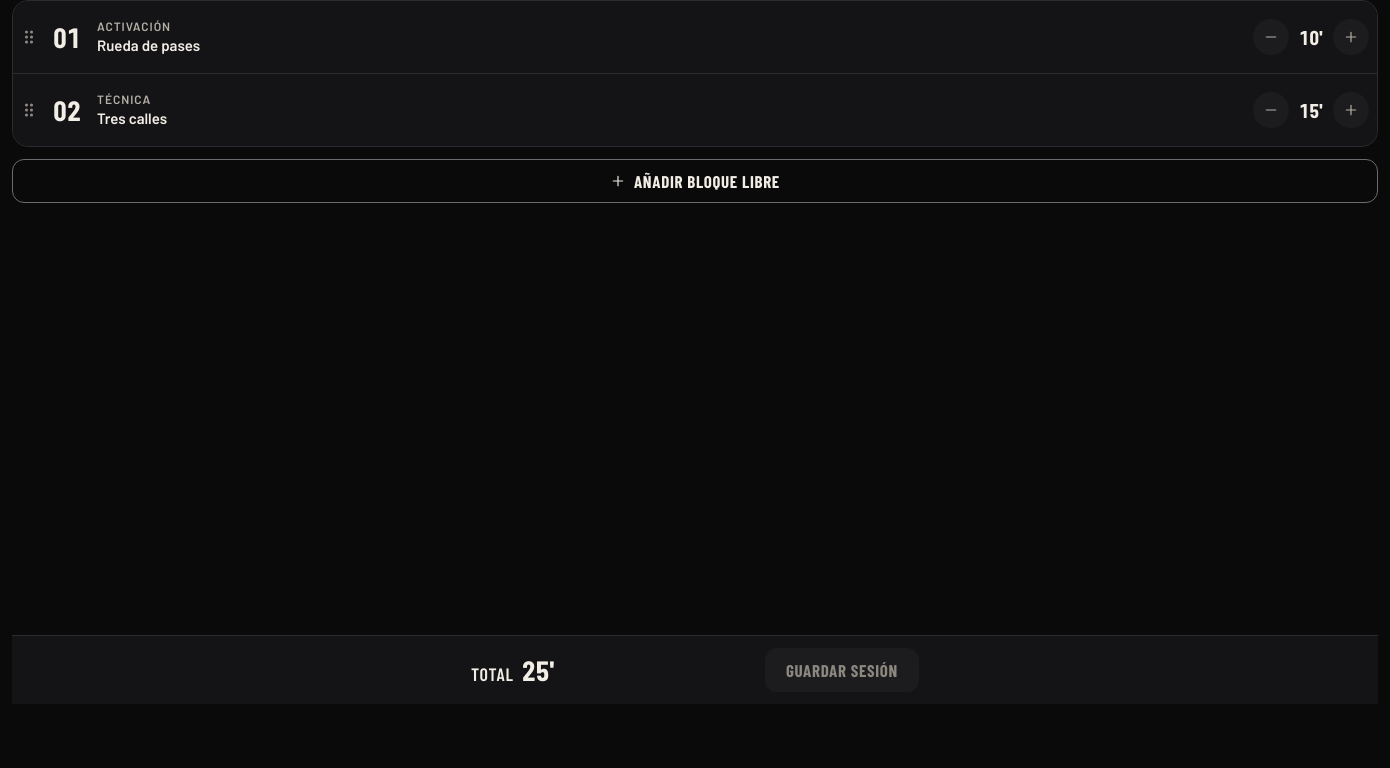
Test case: PracticeBuilder · añadir y quitar › al quitar la última fila, el foco va a la anterior; y sin filas, a «Añadir bloque libre»
Click the button "Técnica Tres calles" at (124, 99), box [97, 88, 1245, 132]
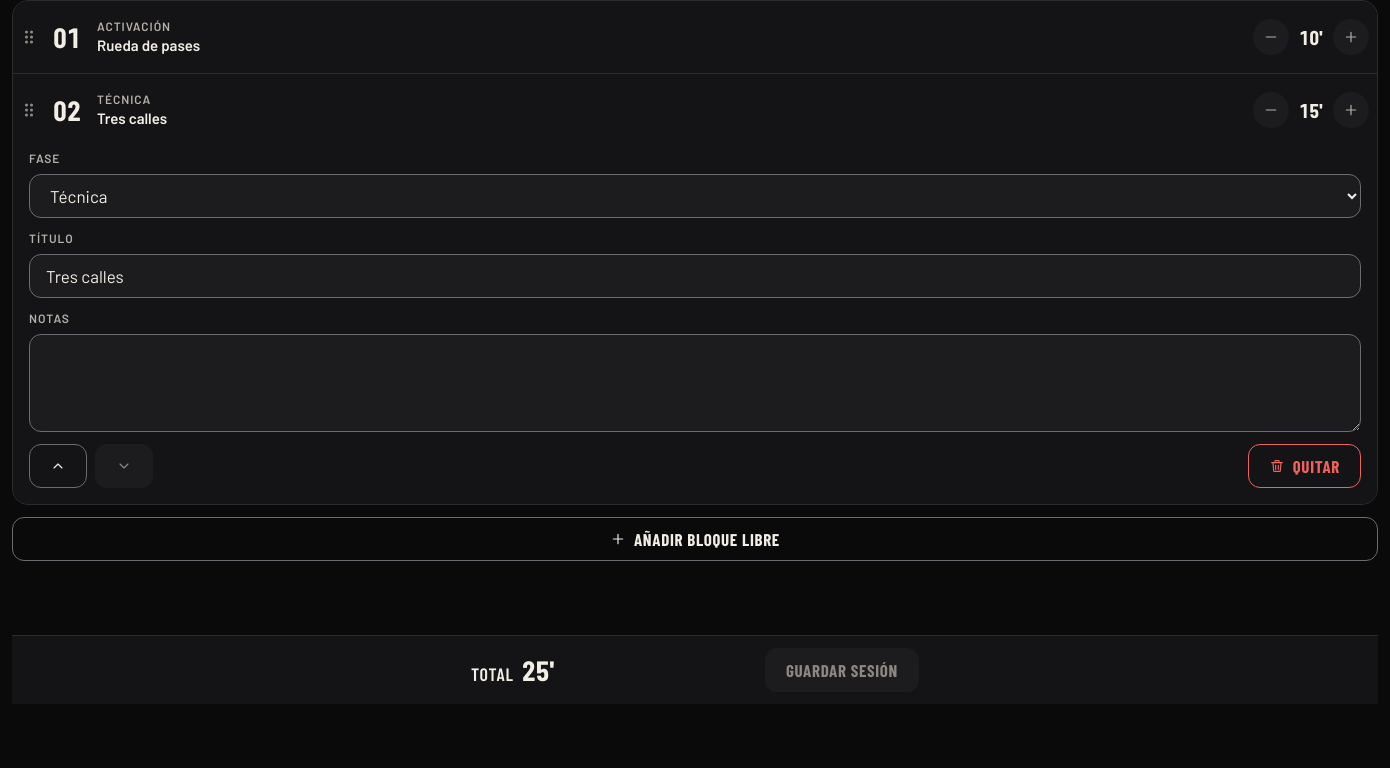
Click the button with aria-label "Quitar Tres calles" at (1304, 466), box [1248, 444, 1361, 488]
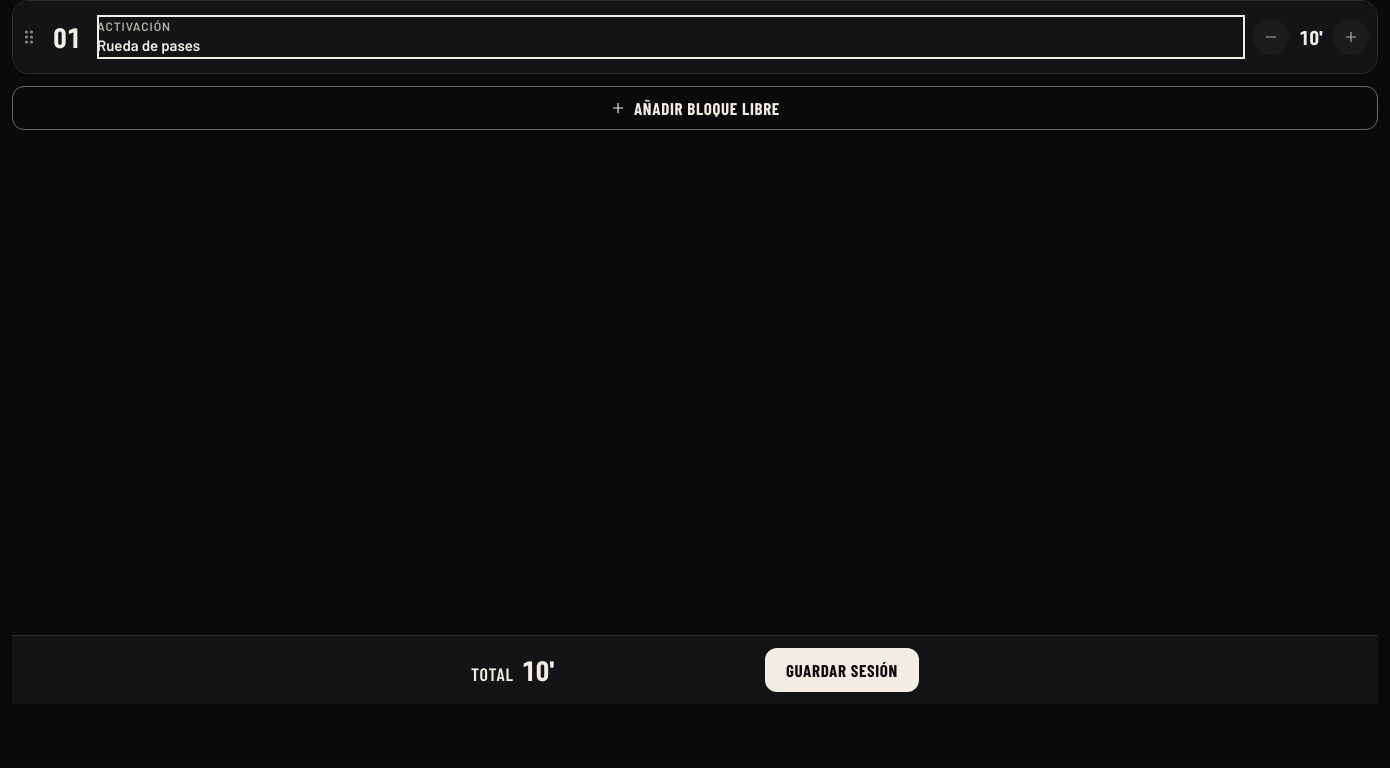
Click the button "Activación Rueda de pases" at (134, 26), box [97, 15, 1245, 59]
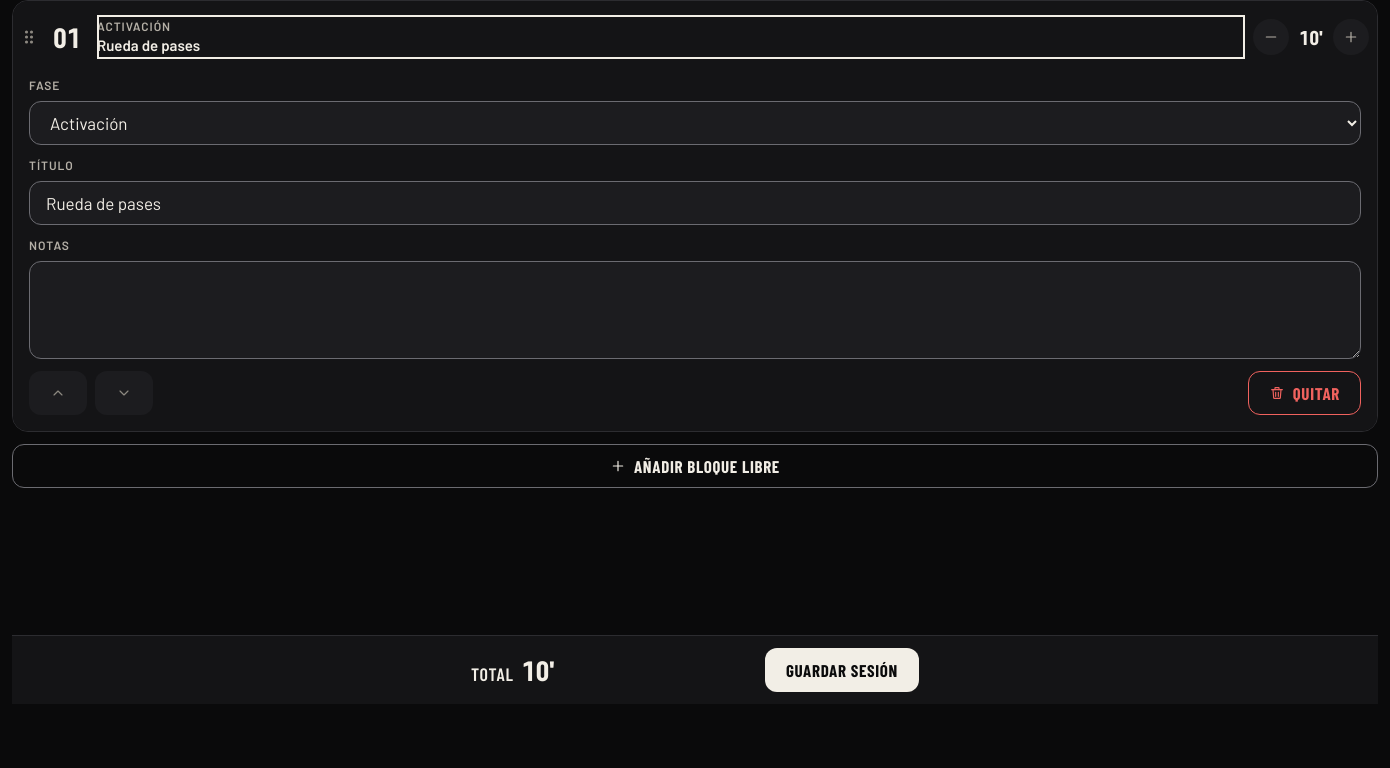
Click the button with aria-label "Quitar Rueda de pases" at (1304, 393), box [1248, 371, 1361, 415]
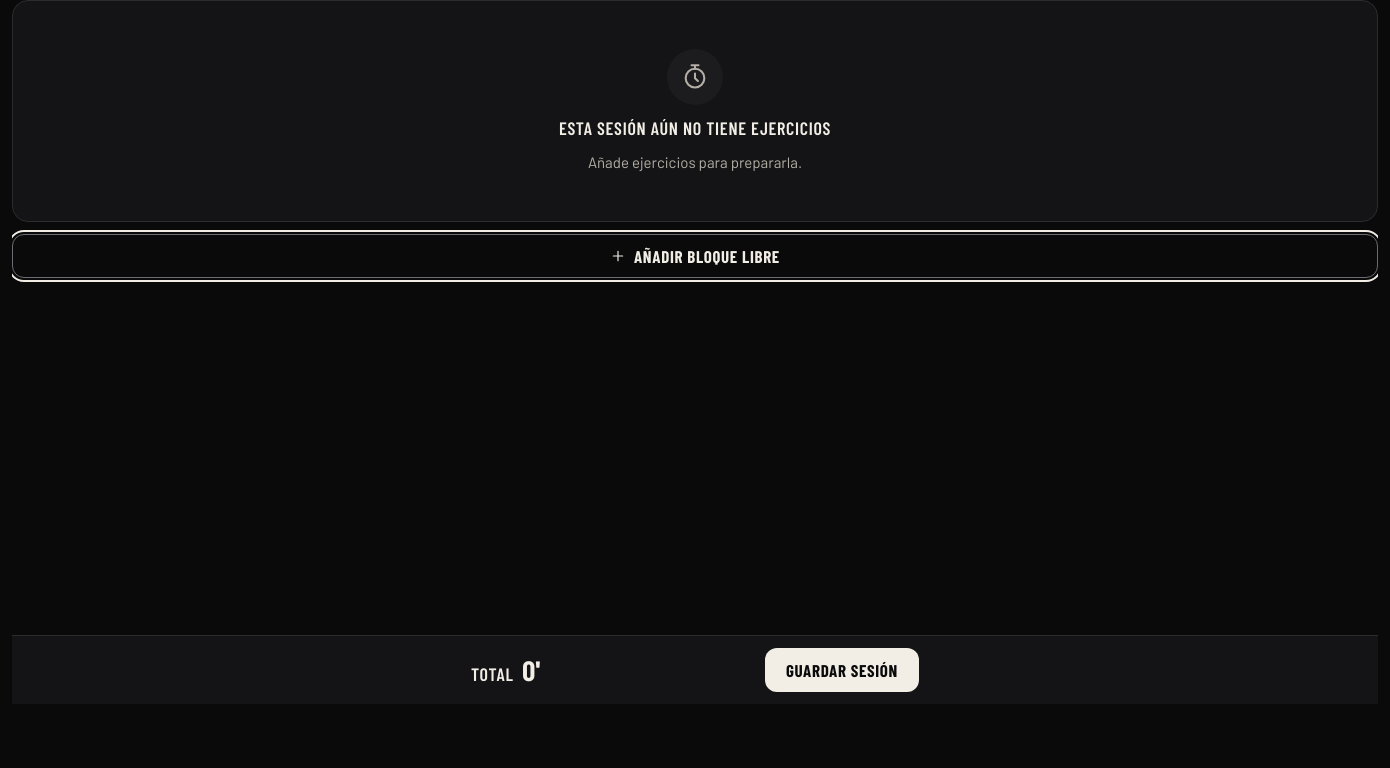
Now no list items are shown
